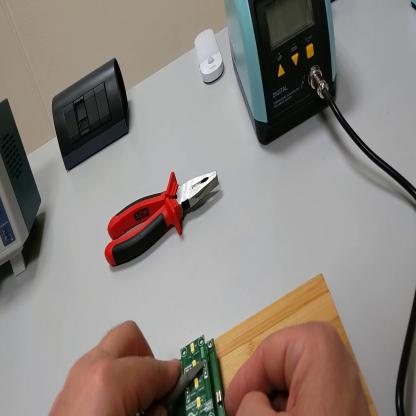hand: (224, 317, 374, 416), (48, 319, 183, 416)
low voltage board: (172, 335, 228, 416)
oscilloscope: (2, 97, 43, 278)
oscilloscope probe tip: (163, 360, 205, 411)
pliers: (106, 170, 221, 268)
welder station: (225, 3, 338, 145)
working area: (215, 276, 383, 415)
